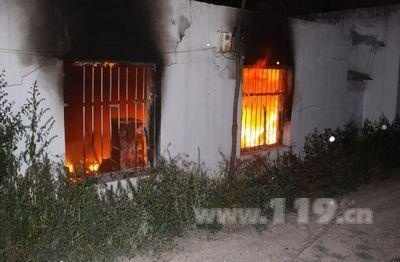fire: (239, 60, 285, 148), (77, 152, 103, 172)
